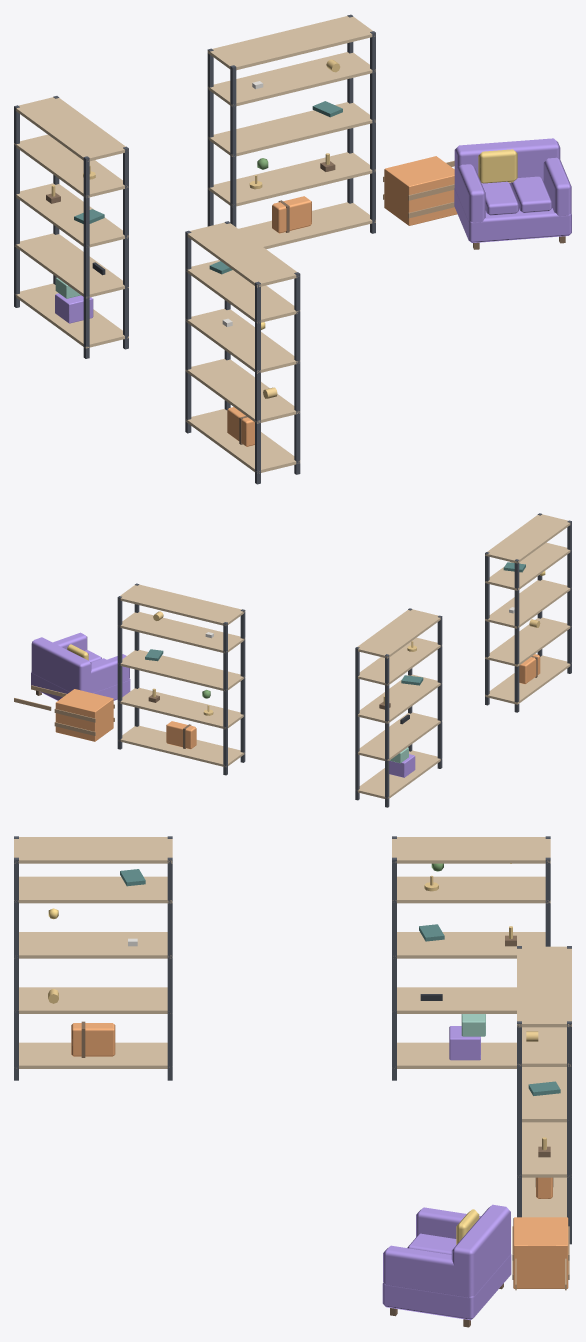
The model's file is einrichtung_requisite_buehne.glb.
3 views of the same model, one above another, from view 1: azimuth 30°, elevation 25°; view 2: azimuth 150°, elevation 25°; view 3: azimuth 270°, elevation 25° (orthographic). The views are drawn at different scales.
Visible parts, largest first — view 1: einrichtung_requisite_buehne; view 2: einrichtung_requisite_buehne; view 3: einrichtung_requisite_buehne.
Part boxes in pixels (x1,y1,x2,y2): einrichtung_requisite_buehne: (14, 14, 571, 484); einrichtung_requisite_buehne: (14, 513, 571, 807); einrichtung_requisite_buehne: (14, 836, 571, 1327).
Bounding box in the file's own units: 5.3 × 2 × 4.58.
